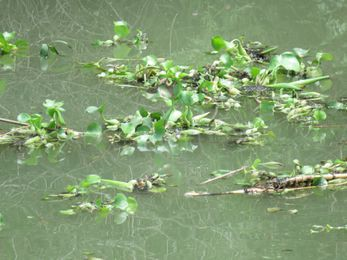water_hyacinth: (1, 13, 347, 154)
